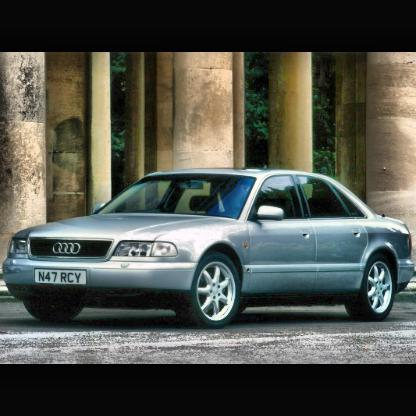Audi 100 Sedan 1994: (2, 166, 416, 330)
